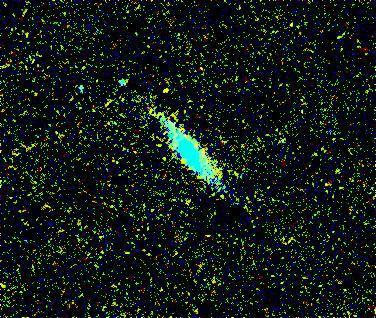star: (152, 79, 182, 109)
